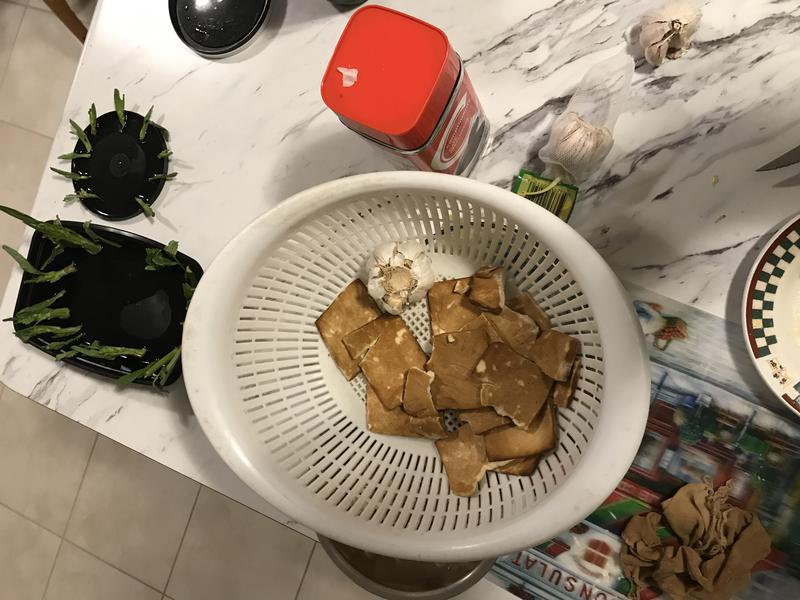garlic: (360, 237, 444, 317), (633, 1, 707, 72), (542, 110, 608, 180)
